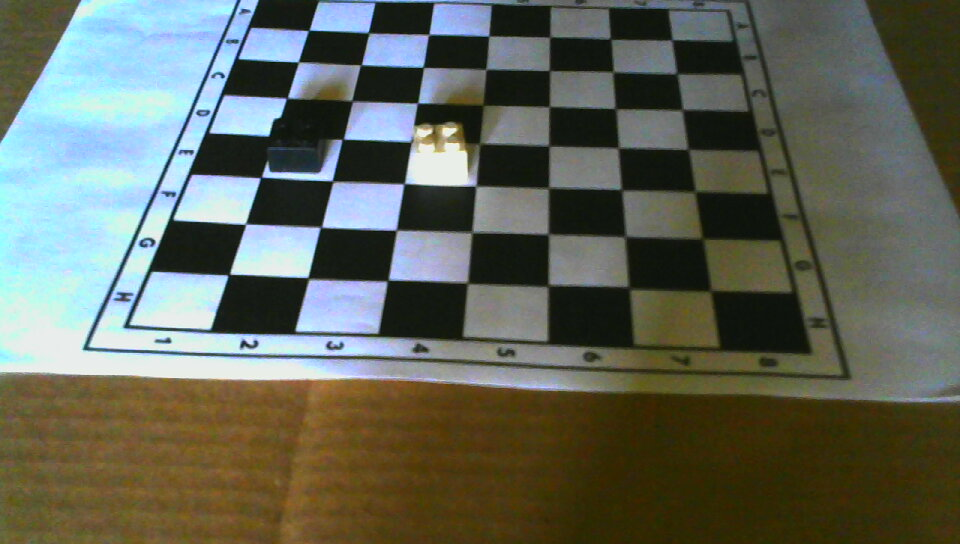bp: (268, 115, 326, 172)
wp: (410, 121, 469, 181)
